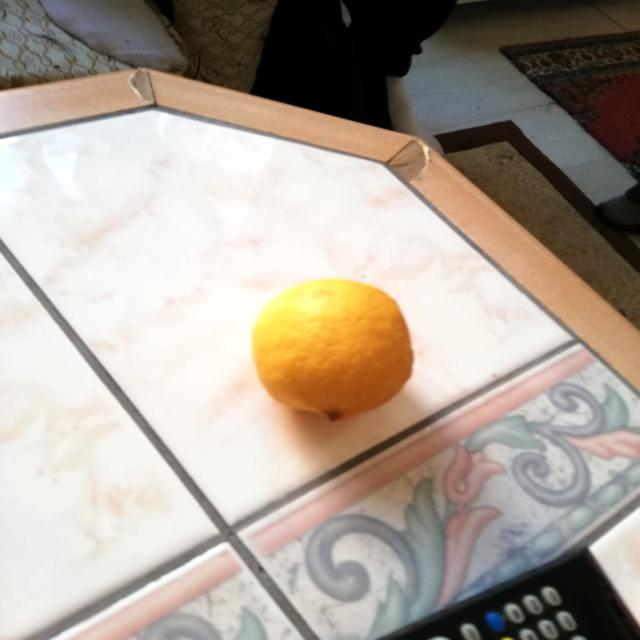lemon: (242, 274, 425, 428)
